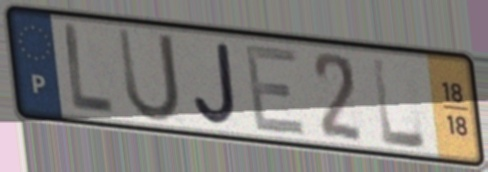2: (311, 50, 365, 145)
E: (241, 43, 310, 140)
J: (191, 39, 240, 127)
L: (369, 53, 430, 151), (61, 20, 116, 119)
U: (114, 24, 184, 125)
